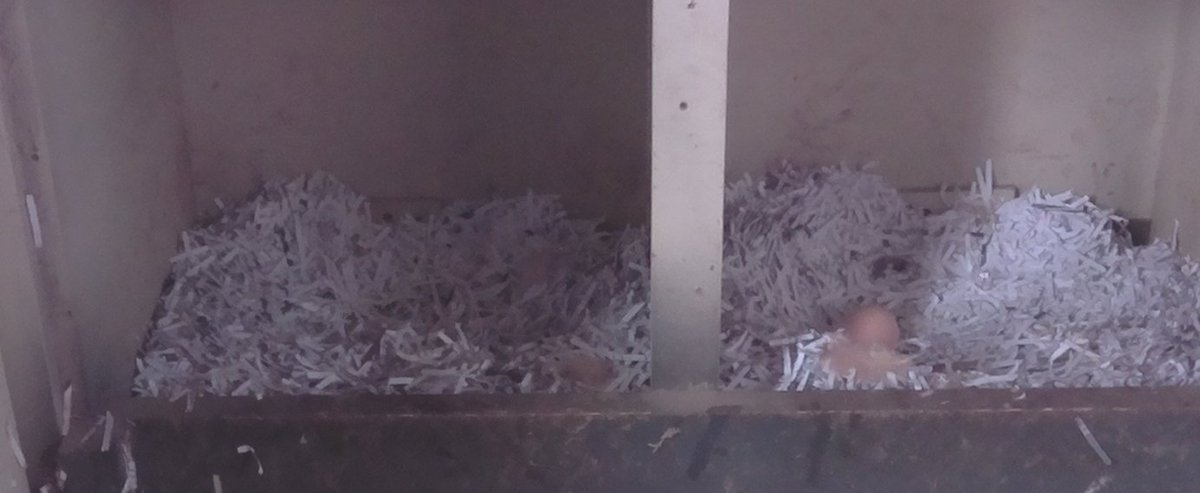egg: (844, 301, 902, 358)
